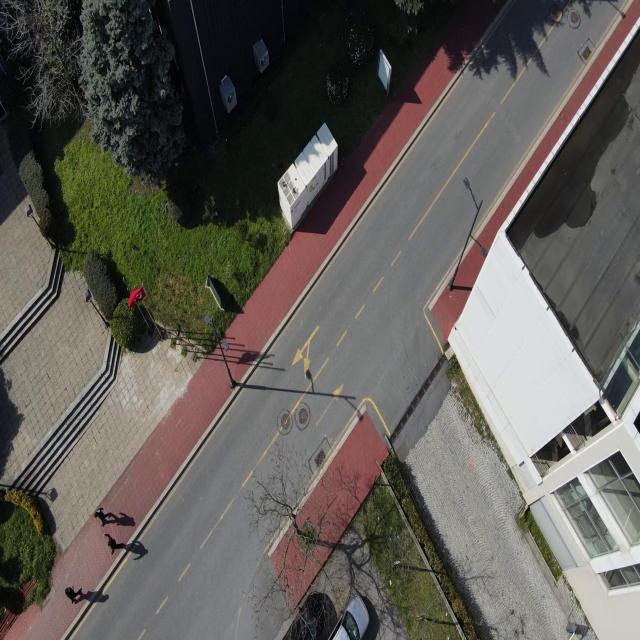p3rson: (102, 532, 117, 555), (94, 508, 111, 528), (65, 586, 82, 604)
